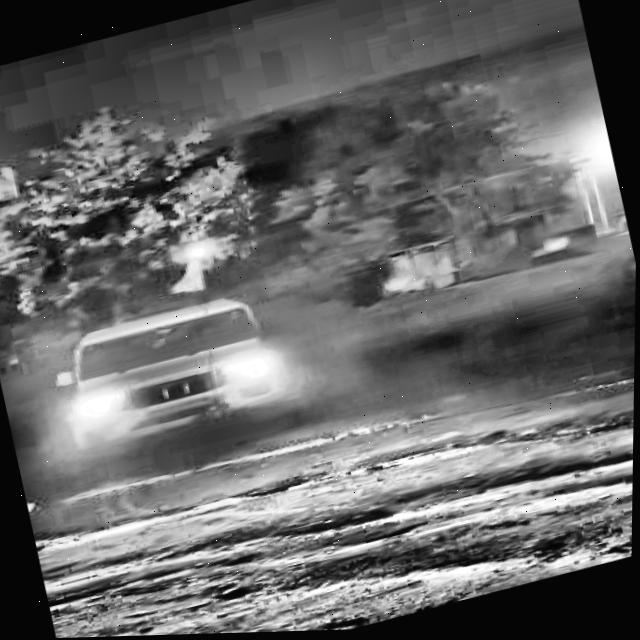light_vehicle: (33, 280, 306, 472)
